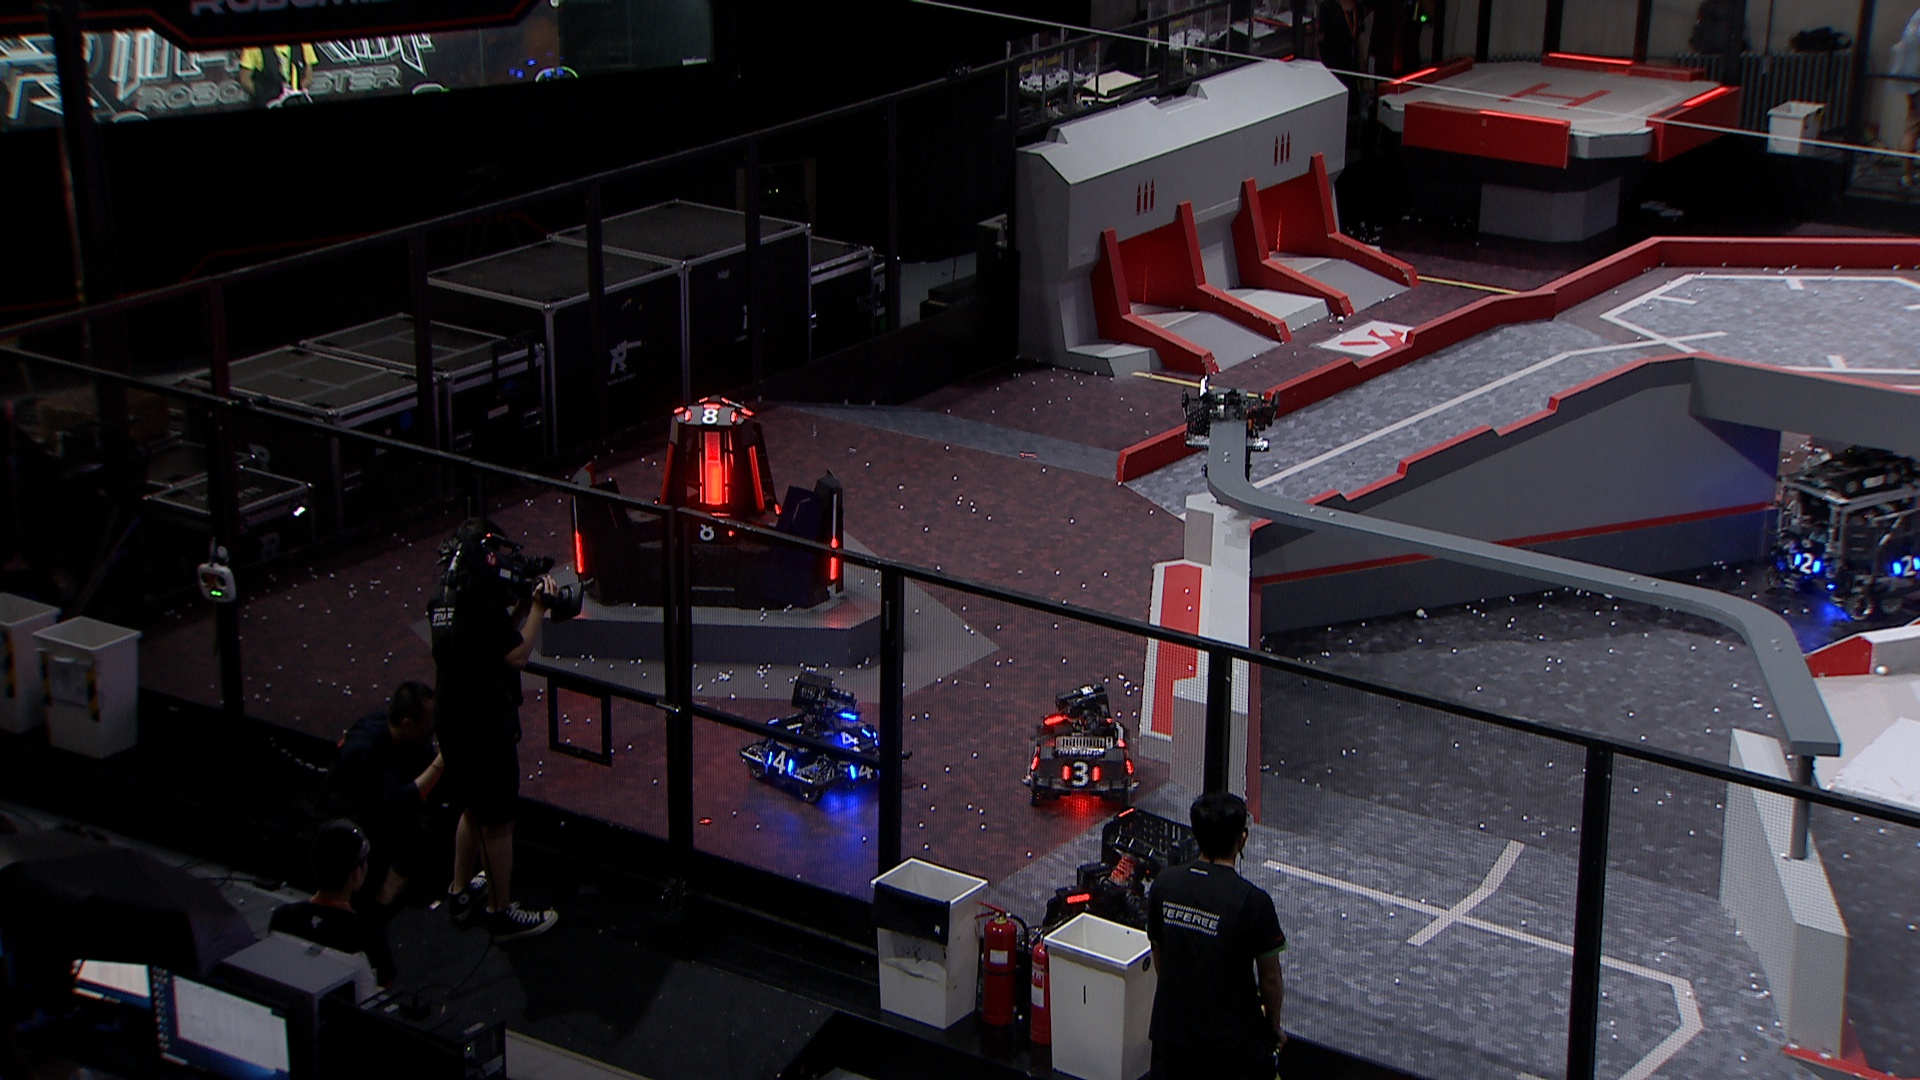armor: (700, 458, 731, 508), (746, 444, 766, 516), (659, 439, 676, 512), (683, 405, 737, 425), (684, 520, 733, 541), (833, 727, 868, 754), (1062, 761, 1097, 785), (1789, 553, 1822, 578), (765, 746, 793, 775), (827, 533, 841, 585), (570, 526, 584, 578), (849, 760, 880, 783), (1890, 555, 1920, 578), (1026, 742, 1043, 770)
base: (567, 390, 849, 612)
car: (1759, 440, 1920, 626), (1038, 804, 1205, 982), (738, 666, 895, 798), (1021, 683, 1139, 807)
watcher: (1178, 371, 1280, 488)
